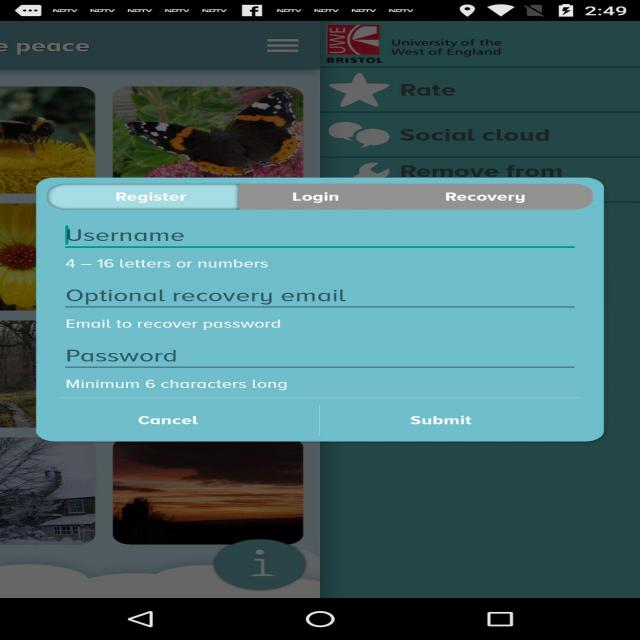button: (322, 401, 574, 438), (58, 400, 270, 436), (244, 184, 442, 212), (58, 183, 234, 210), (449, 181, 579, 213)
icon: (221, 544, 295, 588), (266, 36, 303, 60)
image: (0, 81, 314, 180), (112, 440, 307, 539), (7, 439, 109, 538), (6, 205, 49, 309), (6, 320, 41, 432), (334, 76, 382, 115), (330, 124, 390, 152), (331, 24, 377, 58), (352, 165, 388, 180)
text: (62, 375, 292, 399), (68, 287, 343, 306), (50, 314, 309, 334), (398, 123, 554, 148), (57, 254, 326, 267), (396, 36, 514, 62), (61, 346, 186, 370), (402, 162, 566, 179), (16, 38, 105, 61), (64, 229, 197, 244), (396, 78, 480, 101), (100, 187, 190, 208), (409, 412, 482, 433), (128, 411, 210, 429), (282, 190, 350, 208), (448, 194, 534, 207)
